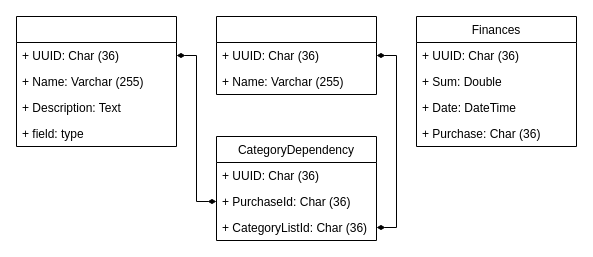
Some shapes in this 593 by 257 pixel diagram are drawn without their labels. Each missing label, with the box of its shape:
CategoryList: (216, 16, 376, 94)
Purchase: (16, 16, 176, 146)
